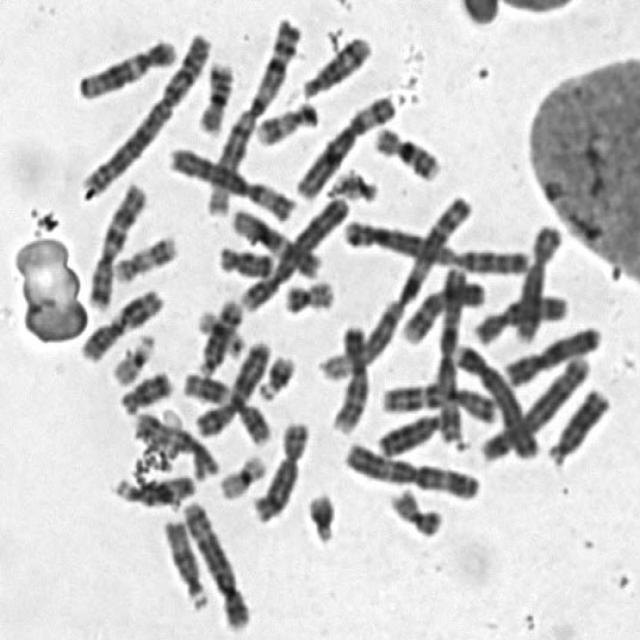A1: (317, 186, 480, 384), (204, 12, 306, 218)
A2: (74, 27, 214, 198), (338, 213, 530, 276)
A3: (337, 434, 485, 502), (434, 260, 469, 447)
B4: (234, 192, 352, 314), (450, 338, 540, 463)
B5: (474, 349, 594, 464), (178, 493, 252, 632)
C10: (130, 407, 220, 481), (470, 286, 572, 347)
C11: (76, 281, 167, 364), (178, 367, 272, 447)
C12: (224, 201, 323, 280), (73, 31, 180, 102)
C6: (292, 88, 402, 201), (165, 141, 299, 222)
C7: (84, 177, 152, 312), (374, 375, 501, 426)
C8: (512, 216, 568, 346), (249, 415, 312, 525)
C9: (396, 273, 488, 347), (329, 317, 372, 435)
D13: (543, 382, 614, 467), (374, 406, 451, 459)
D14: (297, 28, 374, 101), (193, 295, 246, 376)
D15: (156, 513, 210, 612), (108, 468, 198, 508)
E16: (367, 120, 445, 183), (192, 54, 236, 136)
E17: (110, 228, 182, 285), (250, 94, 321, 147)
E18: (116, 364, 175, 415), (214, 240, 276, 280)
F19: (214, 447, 270, 501), (197, 311, 246, 358)
F20: (385, 482, 447, 538), (278, 273, 337, 315)
G21: (253, 346, 299, 402), (302, 486, 339, 546)
G22: (105, 327, 157, 387), (328, 166, 379, 204)
X: (191, 331, 274, 439), (501, 320, 604, 388)
